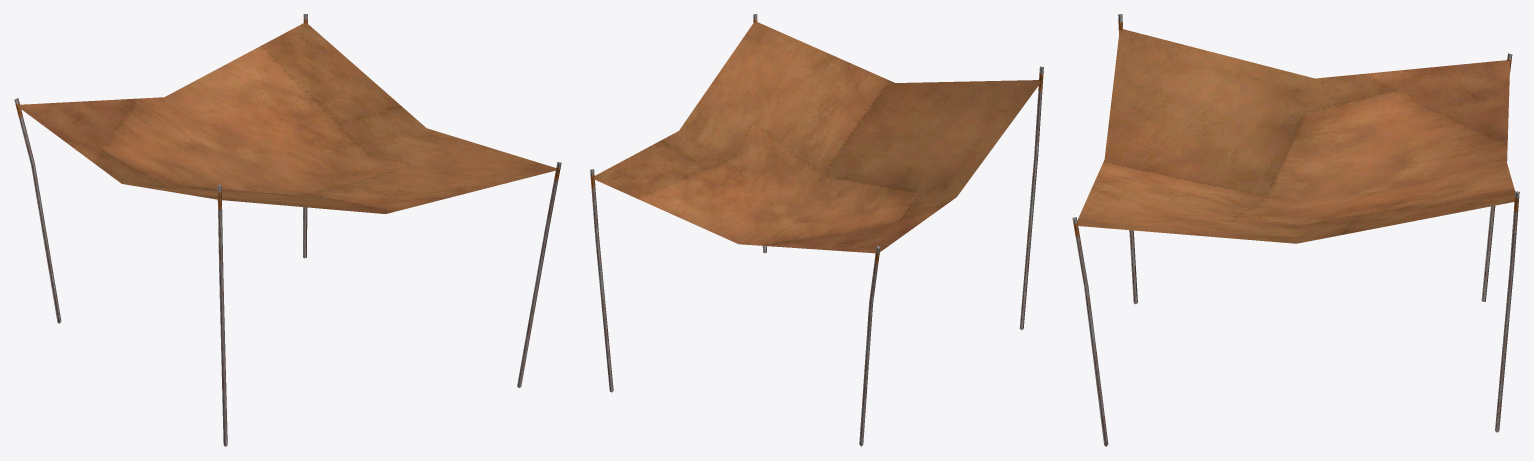
File: thm_tato_jawa_tent_small_l2.fbx
3 views of the same model, side by side, from view 1: azimuth 30°, elevation 25°; view 2: azimuth 150°, elevation 25°; view 3: azimuth 270°, elevation 25° (orthographic). The views are drawn at different scales.
Parts seen in each view (by area): view 1: mesh_node; view 2: mesh_node; view 3: mesh_node.
Boxes of the visible parts, x1,y1,x2,y2 form: mesh_node: (14, 14, 561, 446); mesh_node: (590, 14, 1043, 446); mesh_node: (1072, 14, 1519, 446).
Size of the model in its own units: 4.85 by 3.69 by 5.3.
Materials: 1 (1 with a texture image).
